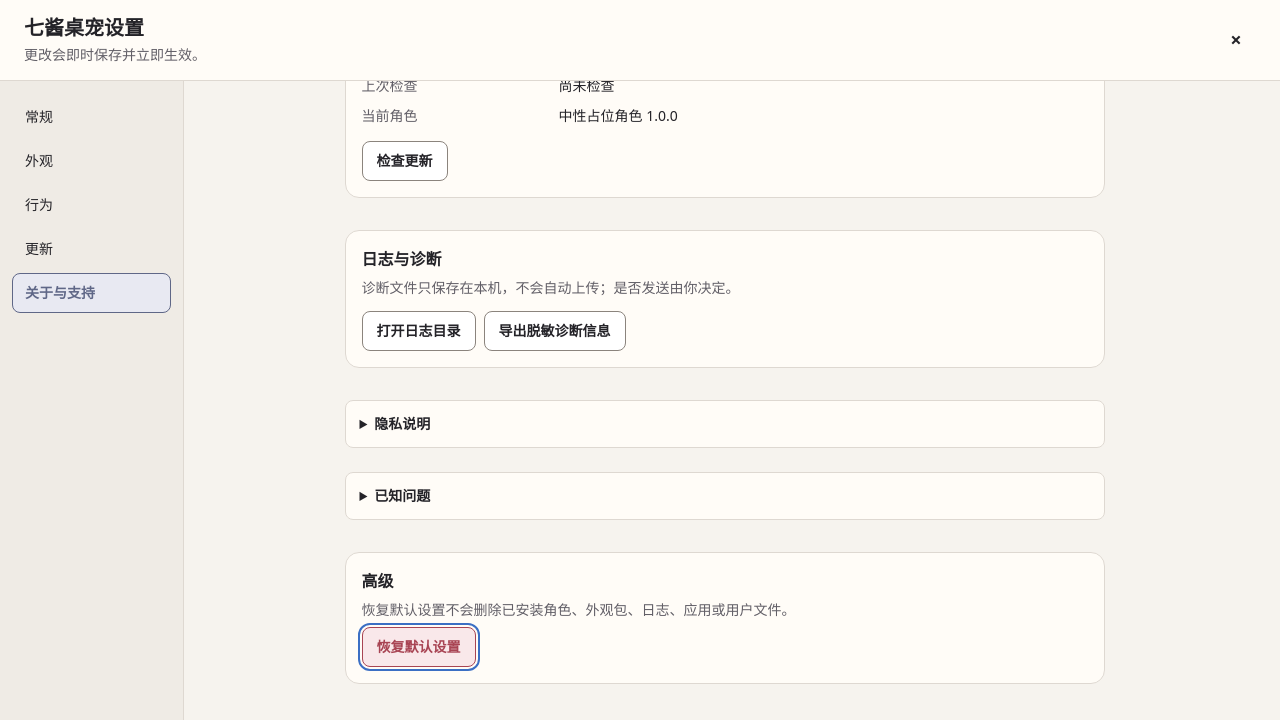
SettingsWindow › focuses Cancel first and returns focus after Escape closes reset confirmation
This screenshot has width=1280, height=720.
(page scrolled)
Click the button "恢复默认设置": (418, 647) [362,627,476,667]
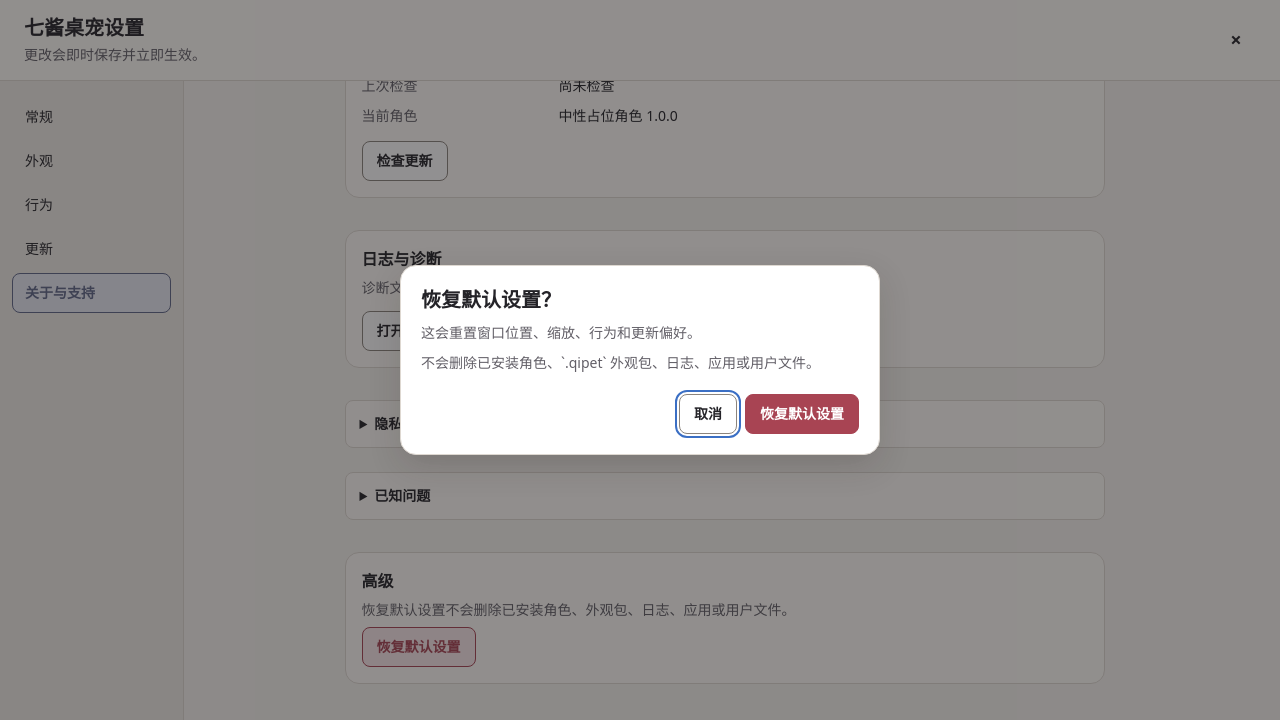
Press Escape in the dialog "恢复默认设置？", box [400,265,880,455]
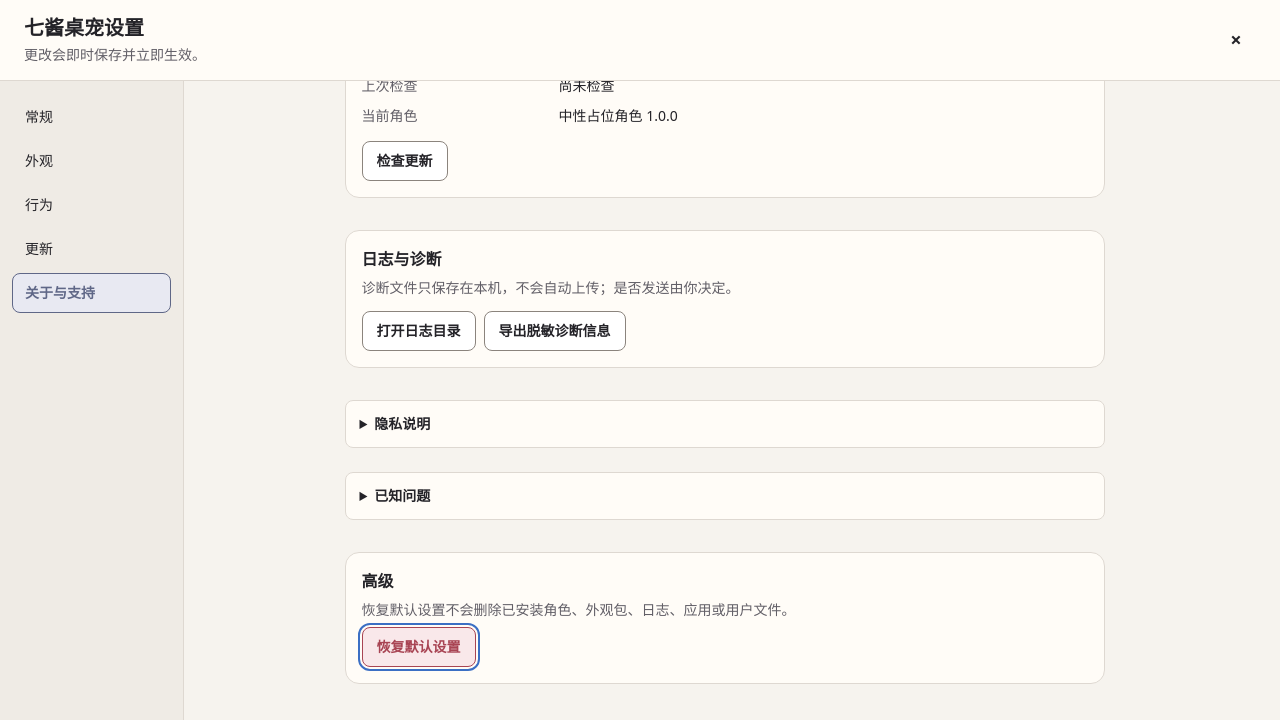
Expected: the dialog is gone
